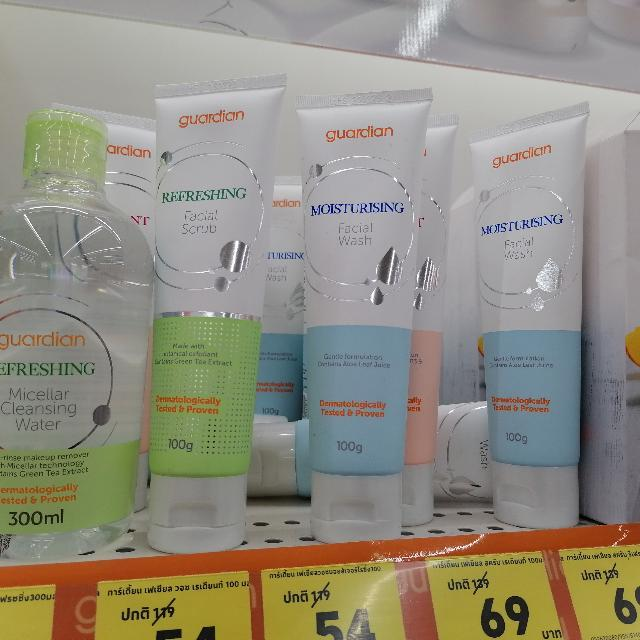Squeeze Tube: (0, 95, 149, 559), (143, 64, 280, 556), (294, 67, 420, 540), (464, 96, 586, 535)
